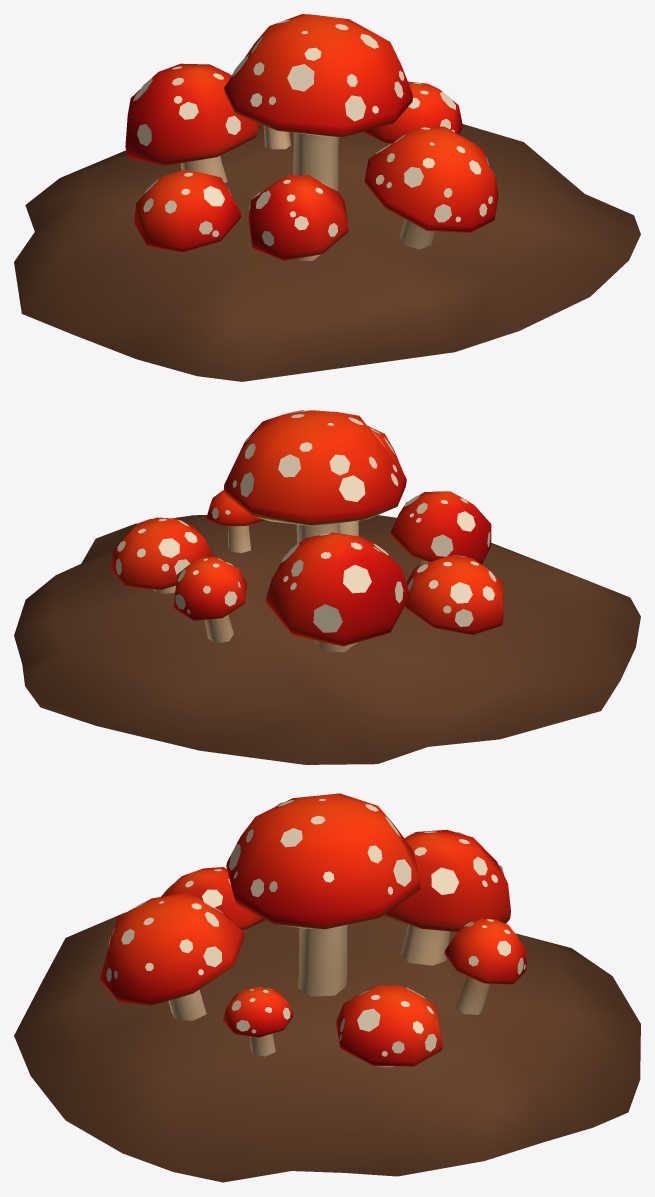
File: SM_PlantSoil_AmanitaMushroom_Lv2.fbx
3 views of the same model, one above another, from view 1: azimuth 30°, elevation 25°; view 2: azimuth 150°, elevation 25°; view 3: azimuth 270°, elevation 25° (orthographic). The views are drawn at different scales.
Visible parts, largest first — view 1: SM_PlantSoil_AmanitaMushroom_Lv2; view 2: SM_PlantSoil_AmanitaMushroom_Lv2; view 3: SM_PlantSoil_AmanitaMushroom_Lv2.
Boxes of the visible parts, left/top/right/bottom form: SM_PlantSoil_AmanitaMushroom_Lv2: left=14, top=14, right=640, bottom=381; SM_PlantSoil_AmanitaMushroom_Lv2: left=14, top=410, right=640, bottom=764; SM_PlantSoil_AmanitaMushroom_Lv2: left=14, top=793, right=640, bottom=1182.
Size of the model in its own units: 118 by 53.78 by 106.
